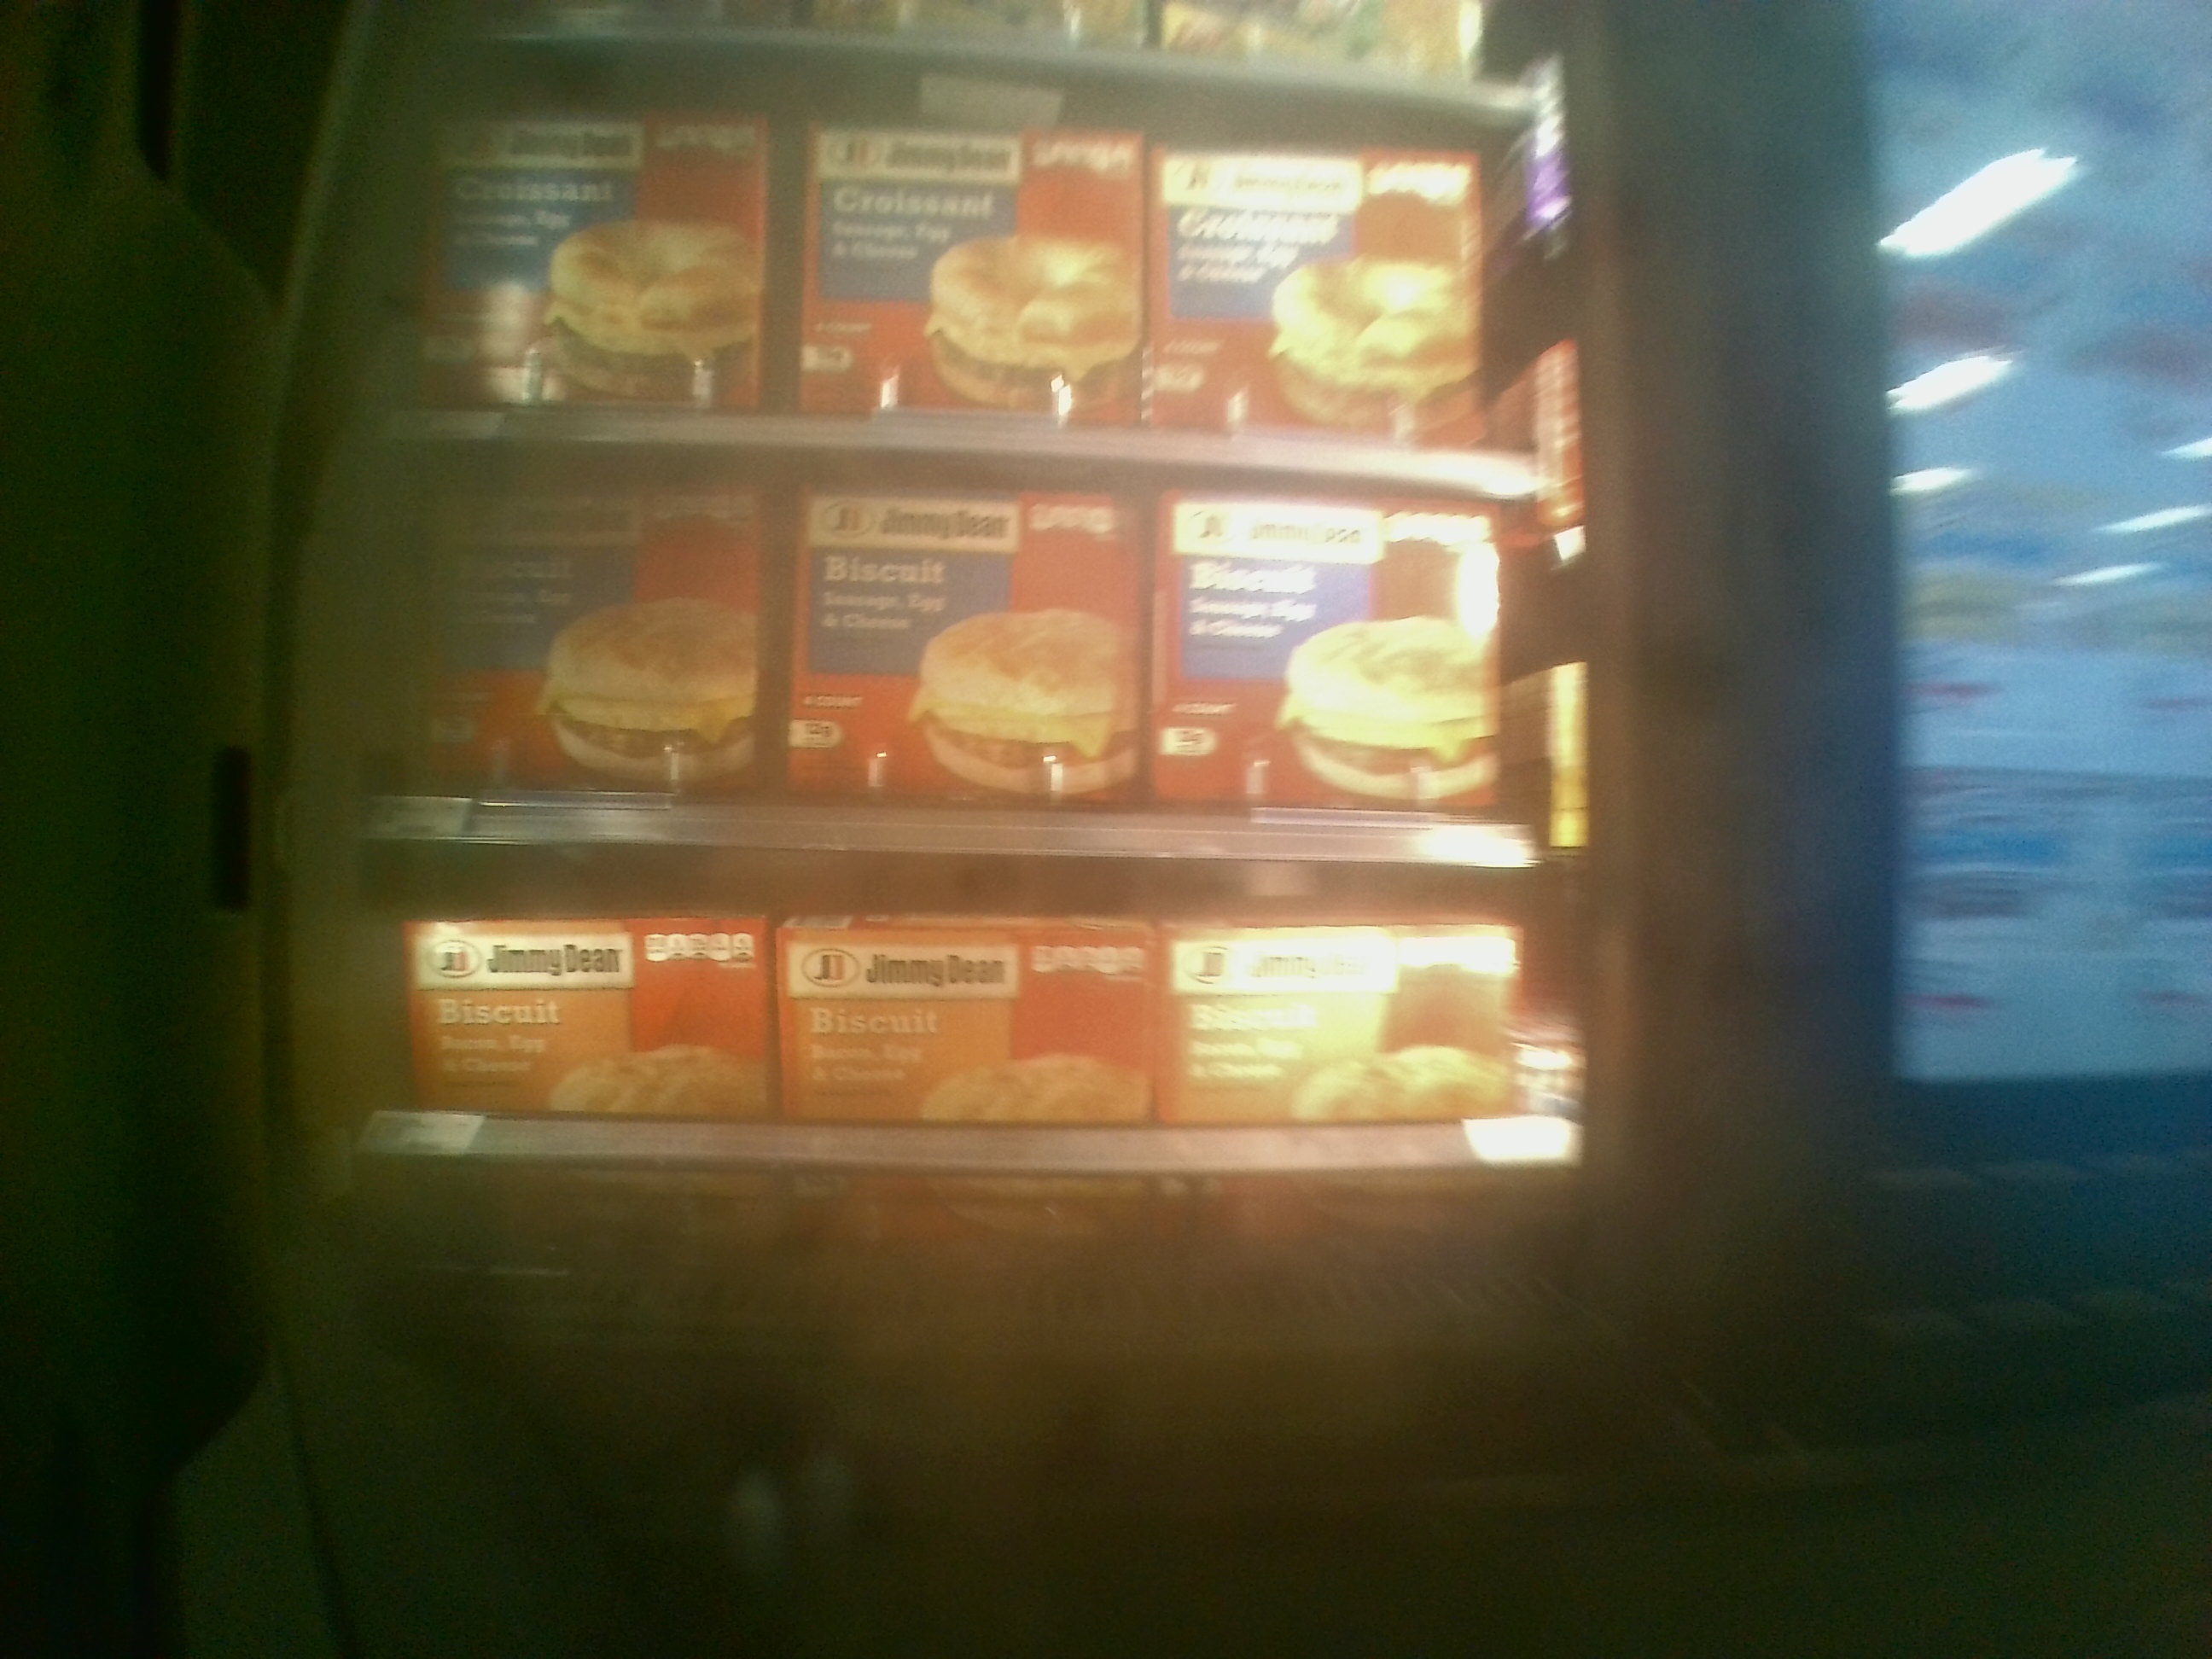shelf: (354, 833, 1569, 1291), (361, 430, 1569, 863)
